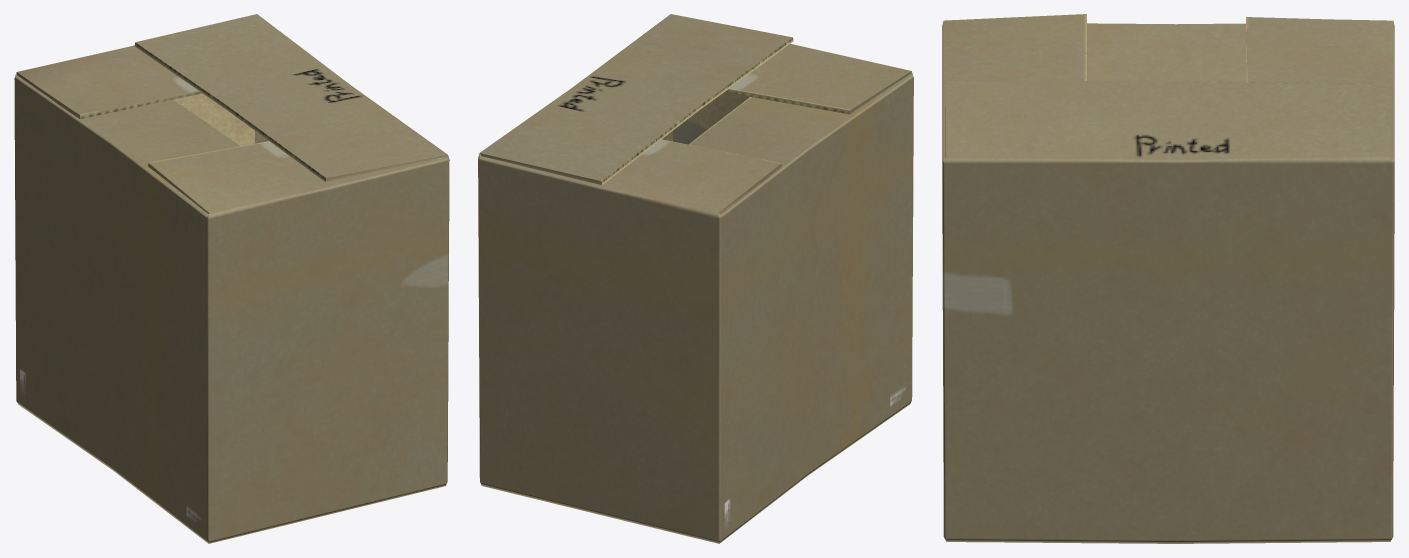
Rendered from SM_Boxes_01c.fbx.
3 renders of one model, left to right at view 1: azimuth 30°, elevation 25°; view 2: azimuth 150°, elevation 25°; view 3: azimuth 270°, elevation 25°, orthographic. The views are drawn at different scales.
Parts seen in each view (by area): view 1: SM_Boxes_01c_LOD0; view 2: SM_Boxes_01c_LOD0; view 3: SM_Boxes_01c_LOD0.
Part boxes in pixels (box(x1,y1,x2,y2)): SM_Boxes_01c_LOD0: box(14, 14, 449, 543); SM_Boxes_01c_LOD0: box(478, 14, 913, 543); SM_Boxes_01c_LOD0: box(942, 14, 1394, 543).
Bounding box in the file's own units: 41.99 × 57.57 × 55.17.
